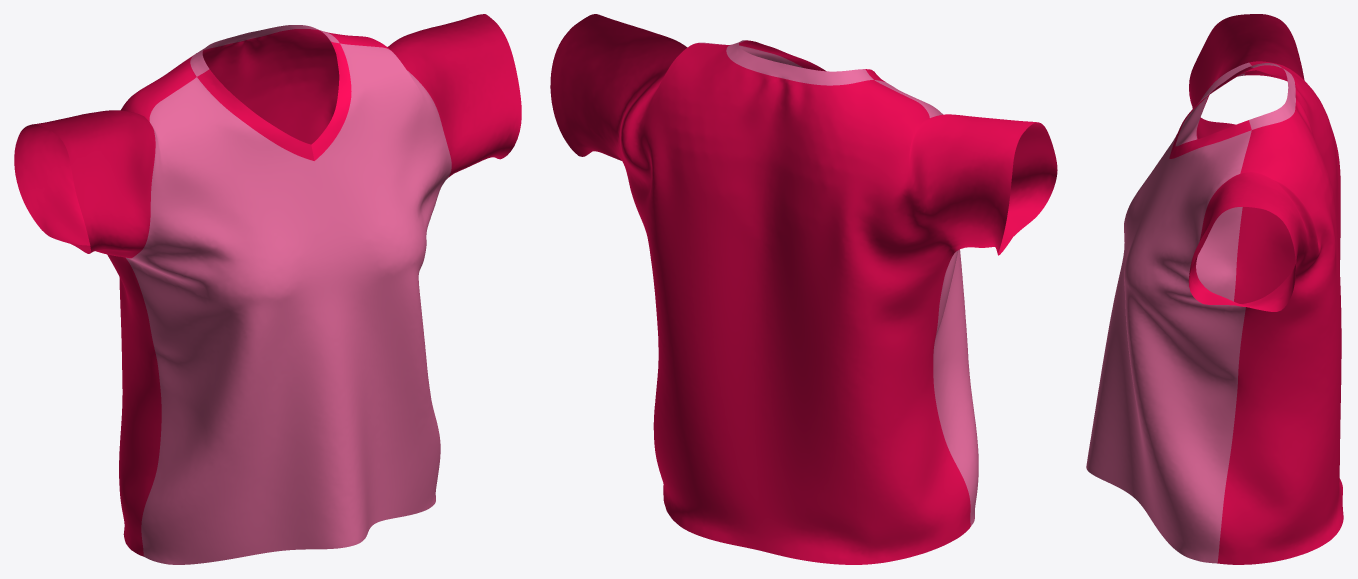
The model's file is female_pink_tshirt_XL.glb.
3 renders of one model, left to right at view 1: azimuth 30°, elevation 25°; view 2: azimuth 150°, elevation 25°; view 3: azimuth 270°, elevation 25°, orthographic. The views are drawn at different scales.
Parts seen in each view (by area): view 1: V_neck_T_shirt_horizontal_sleeves; view 2: V_neck_T_shirt_horizontal_sleeves; view 3: V_neck_T_shirt_horizontal_sleeves.
Boxes of the visible parts, x1,y1,x2,y2 form: V_neck_T_shirt_horizontal_sleeves: (14,14,521,564); V_neck_T_shirt_horizontal_sleeves: (550,14,1057,564); V_neck_T_shirt_horizontal_sleeves: (1086,14,1343,564).
Bounding box in the file's own units: 0.6094 × 0.5905 × 0.3283.
